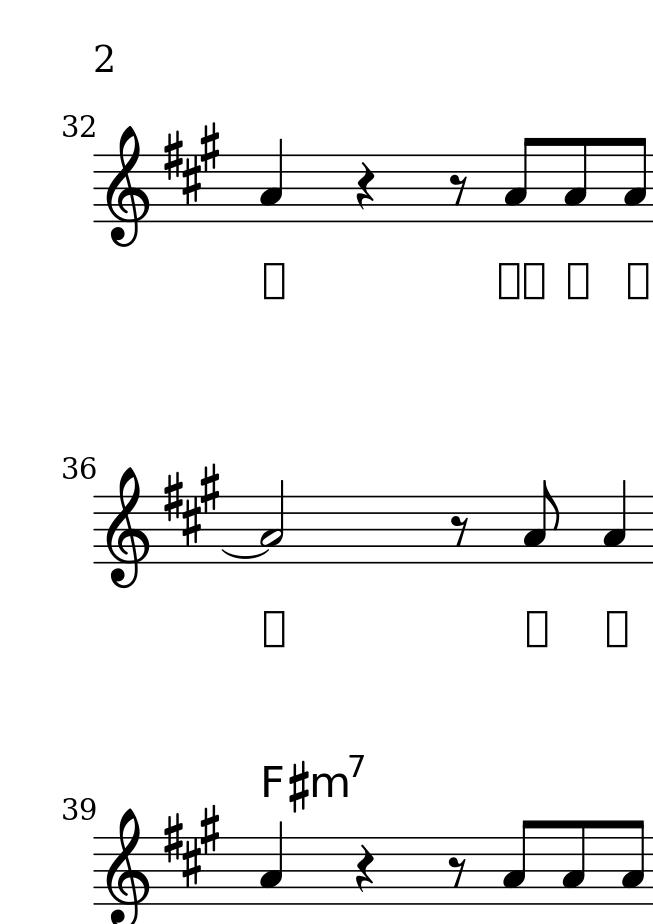2: (91, 42, 115, 74), (78, 113, 98, 140)
2_3: (260, 477, 287, 567)
3: (59, 794, 77, 822), (59, 455, 78, 480), (61, 113, 78, 138)
4_3: (260, 819, 288, 908), (602, 479, 629, 566), (259, 137, 285, 224)
6: (78, 454, 97, 482)
7: (346, 750, 365, 777)
8_3: (523, 479, 561, 567), (501, 819, 536, 905), (504, 135, 534, 225), (562, 135, 590, 224), (619, 818, 646, 906), (562, 818, 588, 907), (623, 135, 648, 224)
9: (78, 794, 98, 822)
Gclef: (107, 465, 155, 590), (104, 804, 150, 924), (106, 126, 150, 250)
Rests4: (353, 842, 376, 894), (355, 161, 376, 211)
Rests8: (450, 513, 469, 549), (447, 854, 467, 887), (450, 173, 469, 206)
Slur: (221, 549, 271, 559)
